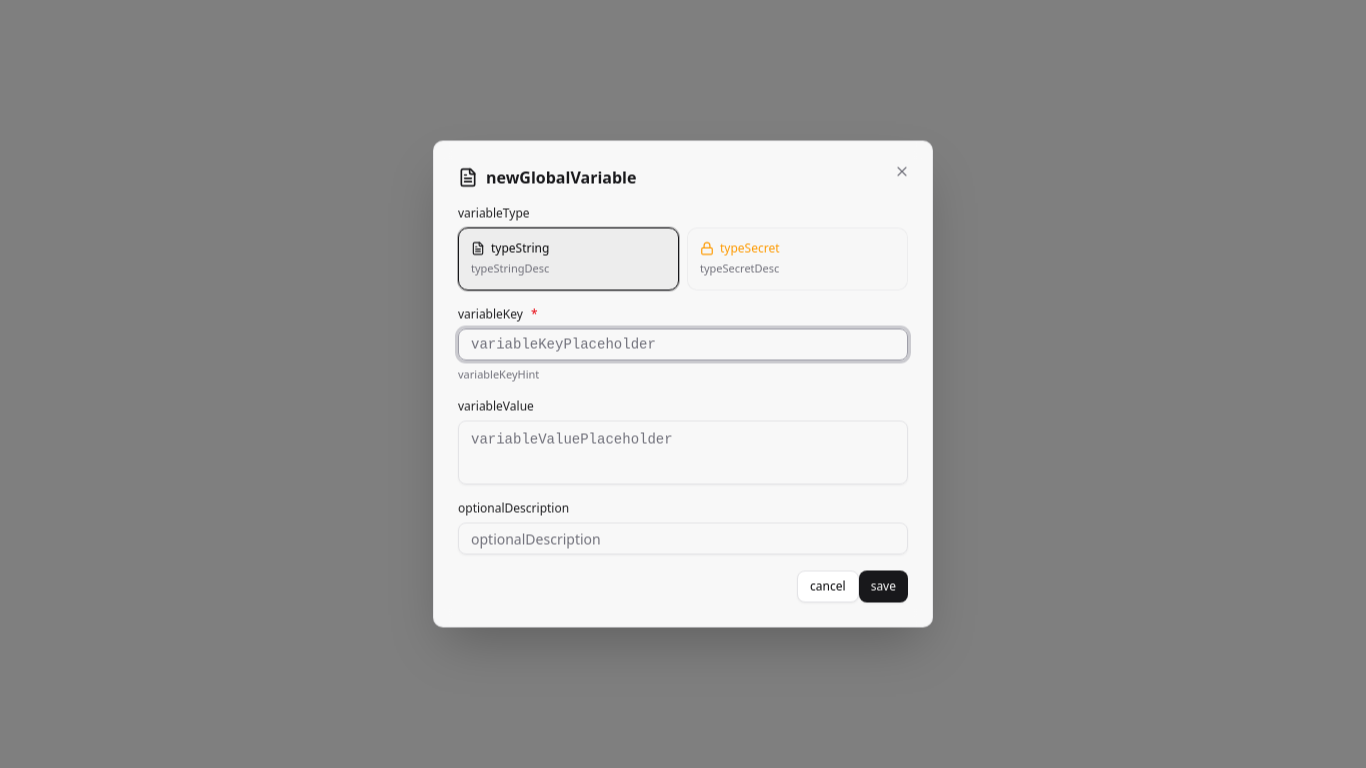
GlobalVariableDialog › switches to secret mode and moves the security notice into a help hint
This screenshot has width=1366, height=768.
Click the text "typeSecret". click: point(740, 248)
box: [700,240,780,256]
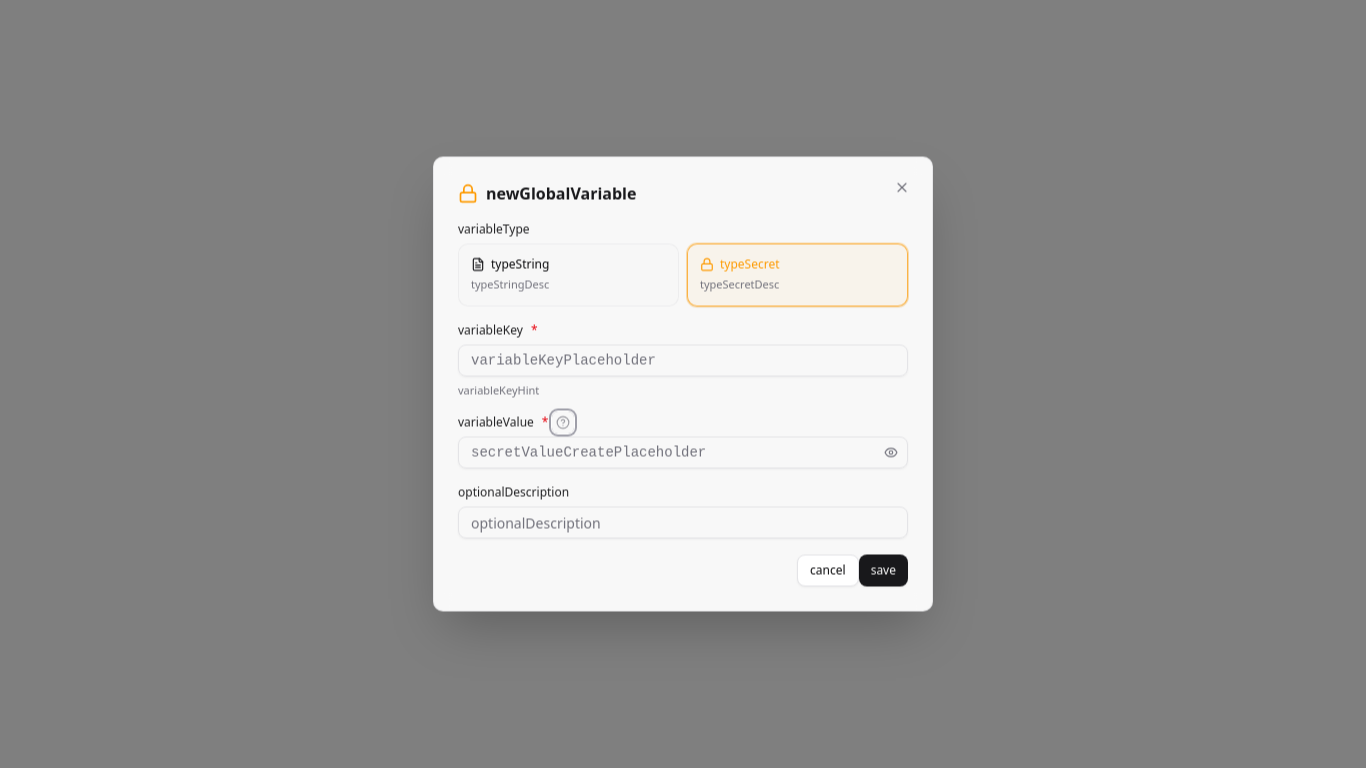
Check: the text "secretProtectionNotice" is not shown
Focus the button with test id "variable-value-secret-hint". click: point(564, 422)
box: [552,412,574,434]
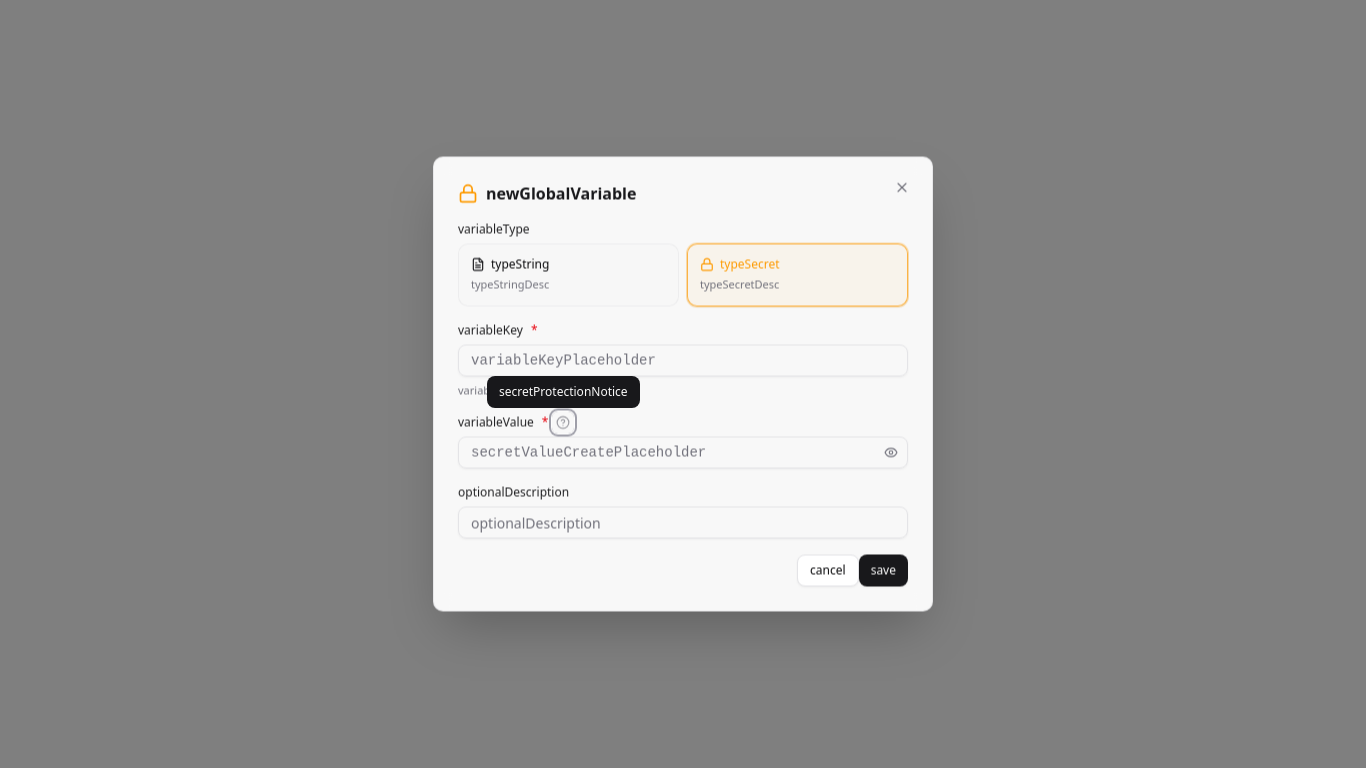
Check: the password field with placeholder "secretValueCreatePlaceholder" is shown, box [458,436,908,468]
Check: the tooltip reads "secretProtectionNotice", box [499,383,628,400]
